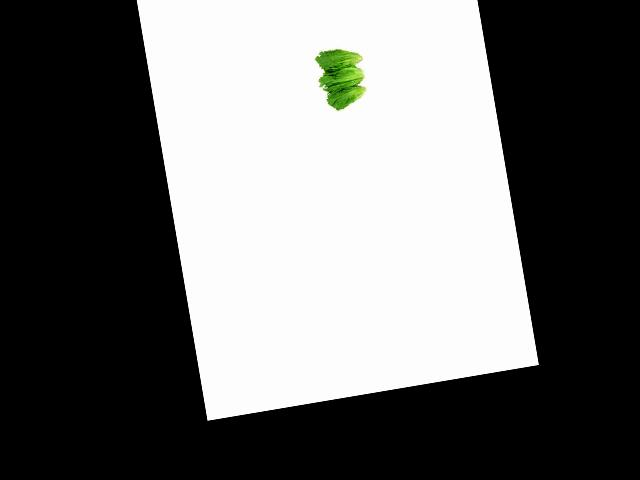lettuce: (323, 79, 379, 112)
